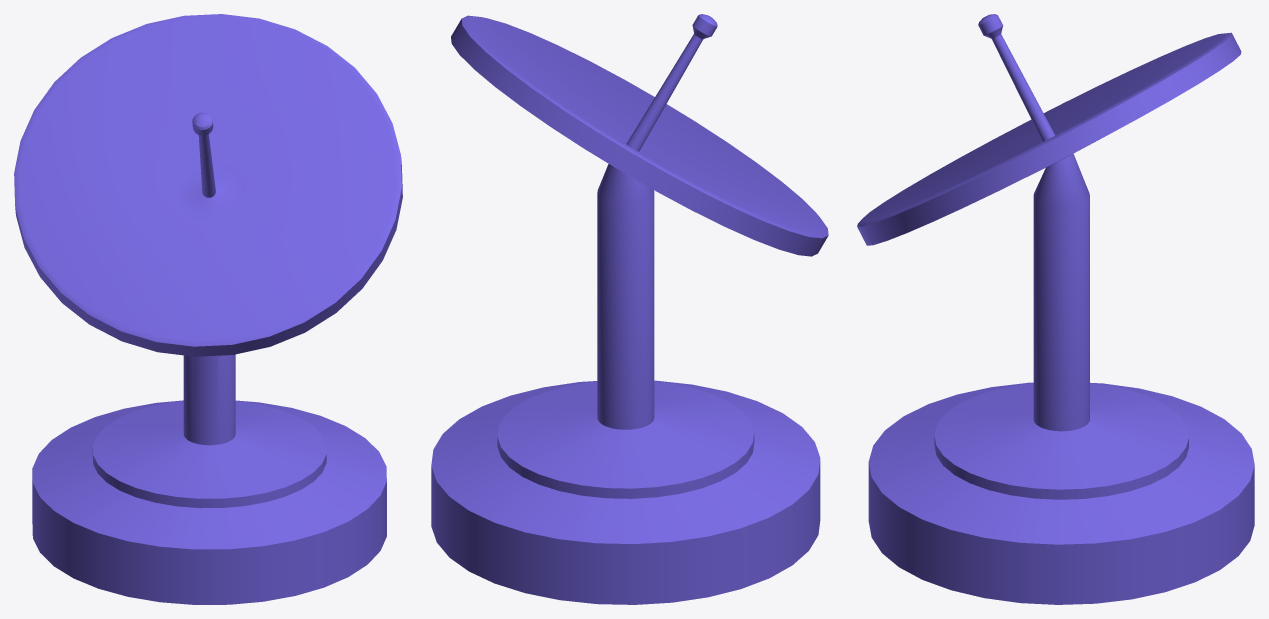
Rendered from emitter.glb.
3 renders of one model, left to right at view 1: azimuth 30°, elevation 25°; view 2: azimuth 150°, elevation 25°; view 3: azimuth 270°, elevation 25°, orthographic. The views are drawn at different scales.
Visible parts, largest first — view 1: Emitter; view 2: Emitter; view 3: Emitter.
Part boxes in pixels (x1,y1,x2,y2): Emitter: (14,14,402,604); Emitter: (431,14,828,604); Emitter: (857,14,1254,604).
Size of the model in its own units: 1.47 by 1.98 by 1.44.
